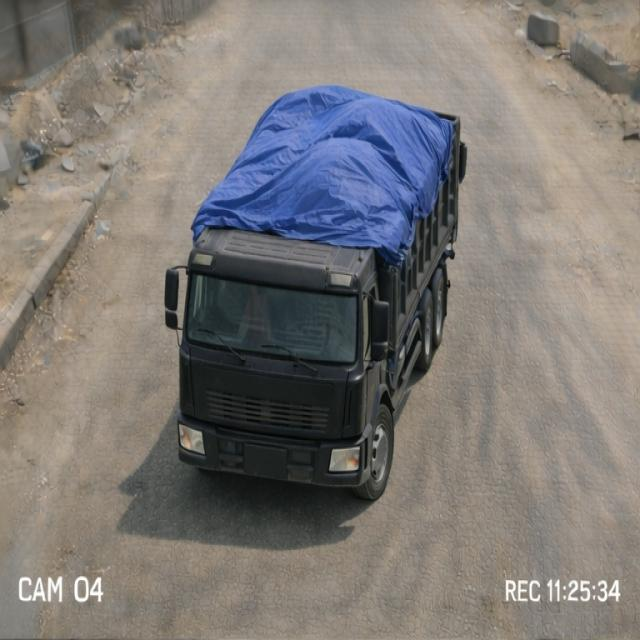trailer: (201, 83, 468, 245)
truck: (162, 72, 496, 497)
